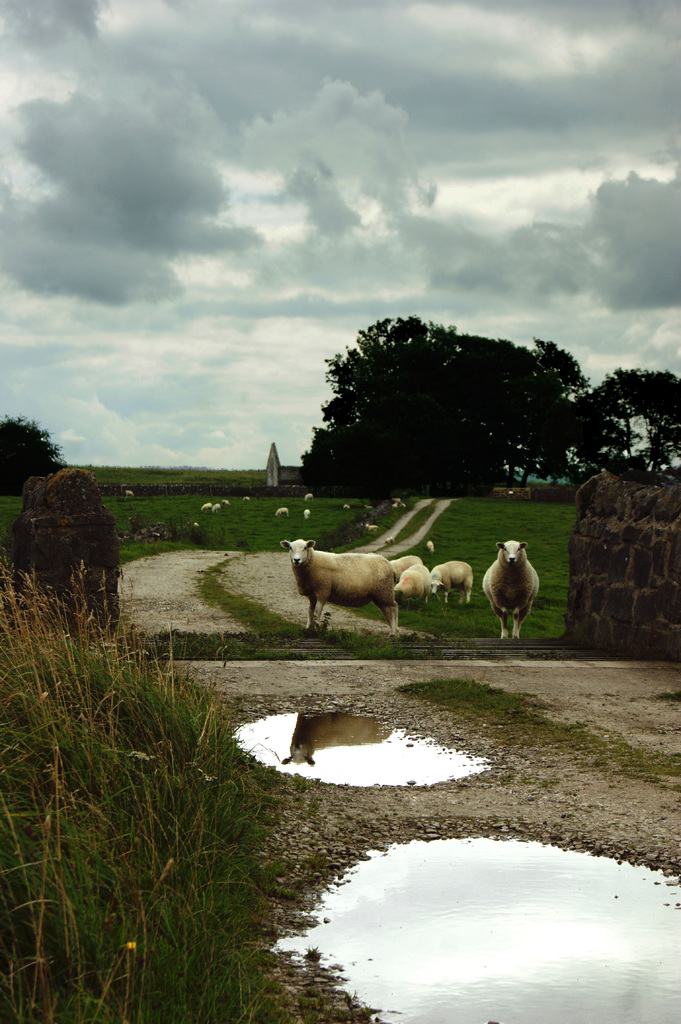sheep: (481, 540, 540, 636)
